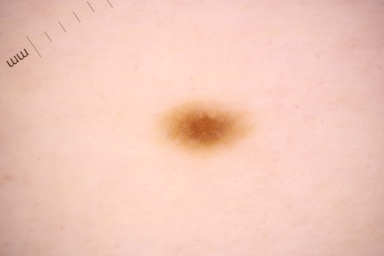melanoma: (176, 111, 229, 143)
